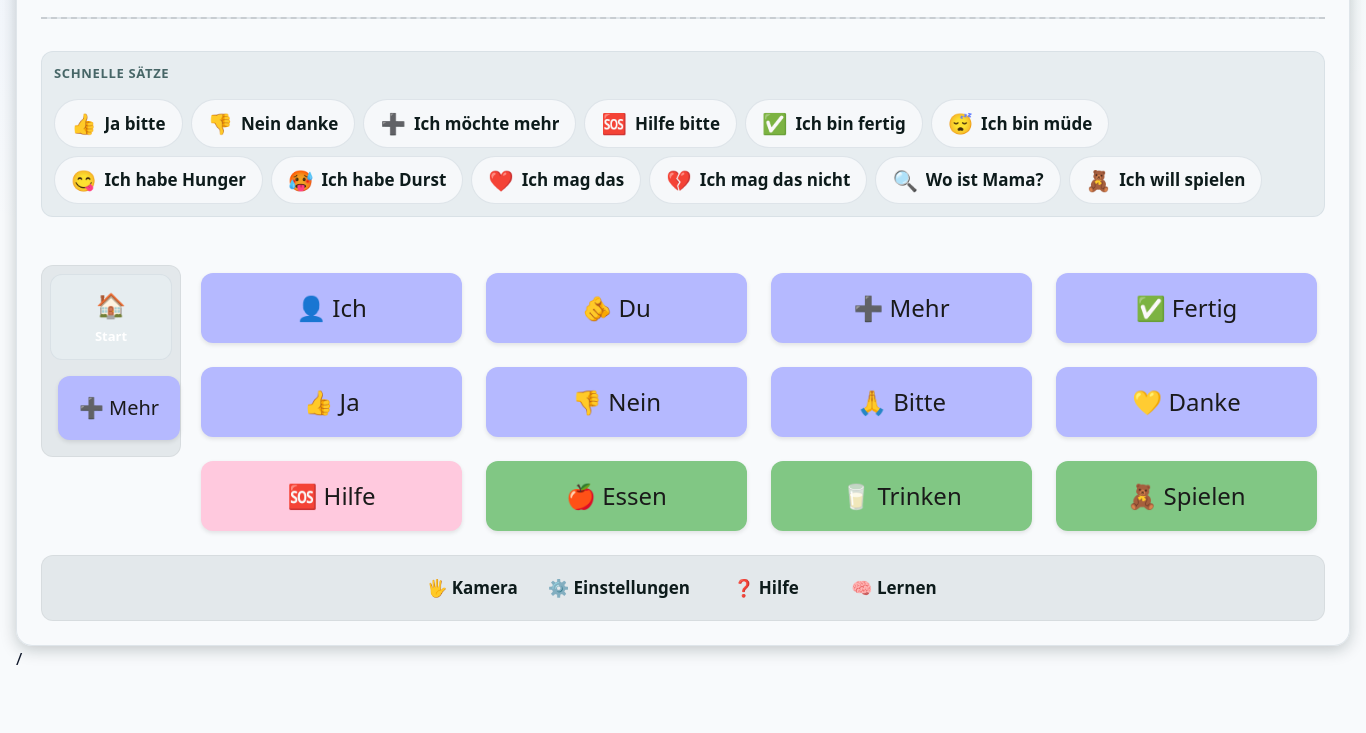
MetacomBoard › updates the last selection label when a symbol is pressed
This screenshot has width=1366, height=733.
(page scrolled)
Click the button "👍 Ja" at (332, 402), box [201, 367, 462, 437]
(page scrolled)
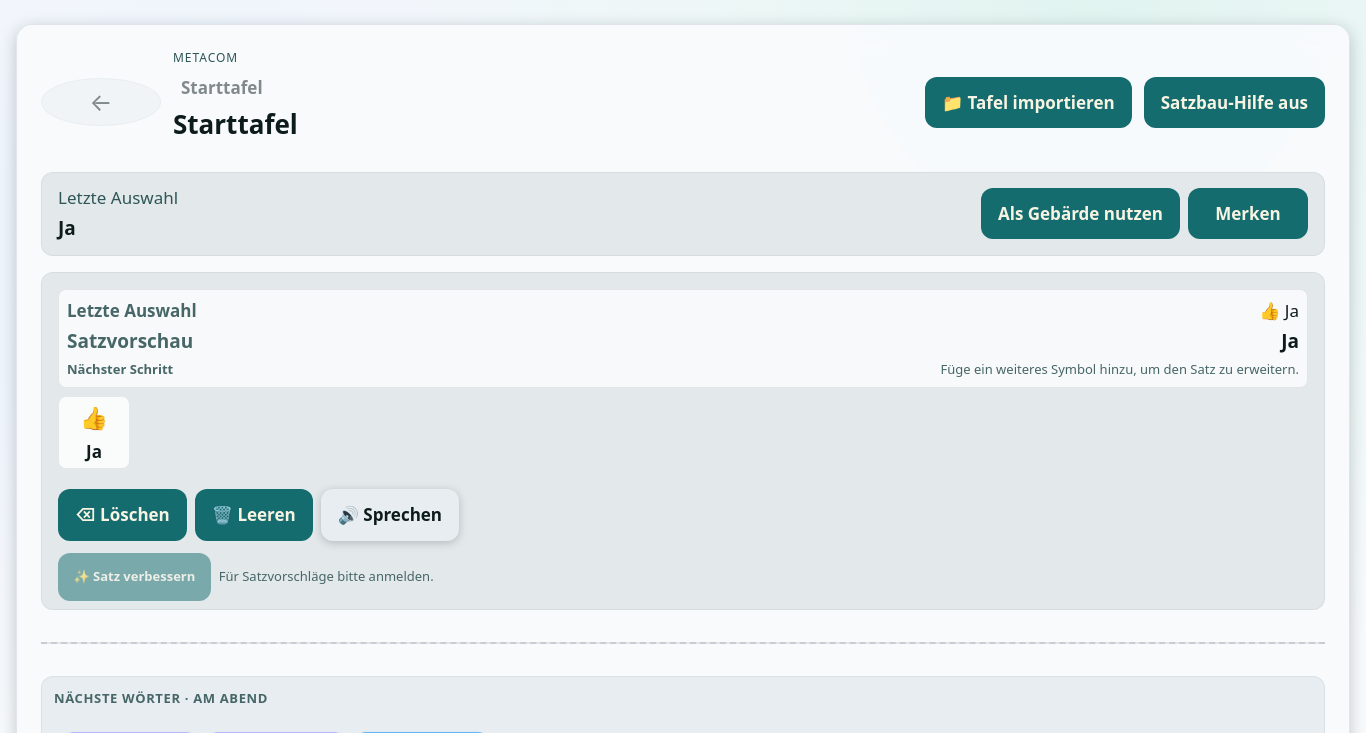
Check: the 1st text "Letzte Auswahl" is shown, box [58, 184, 178, 210]
Check: the 1st text "Ja" is shown, box [58, 215, 76, 241]
